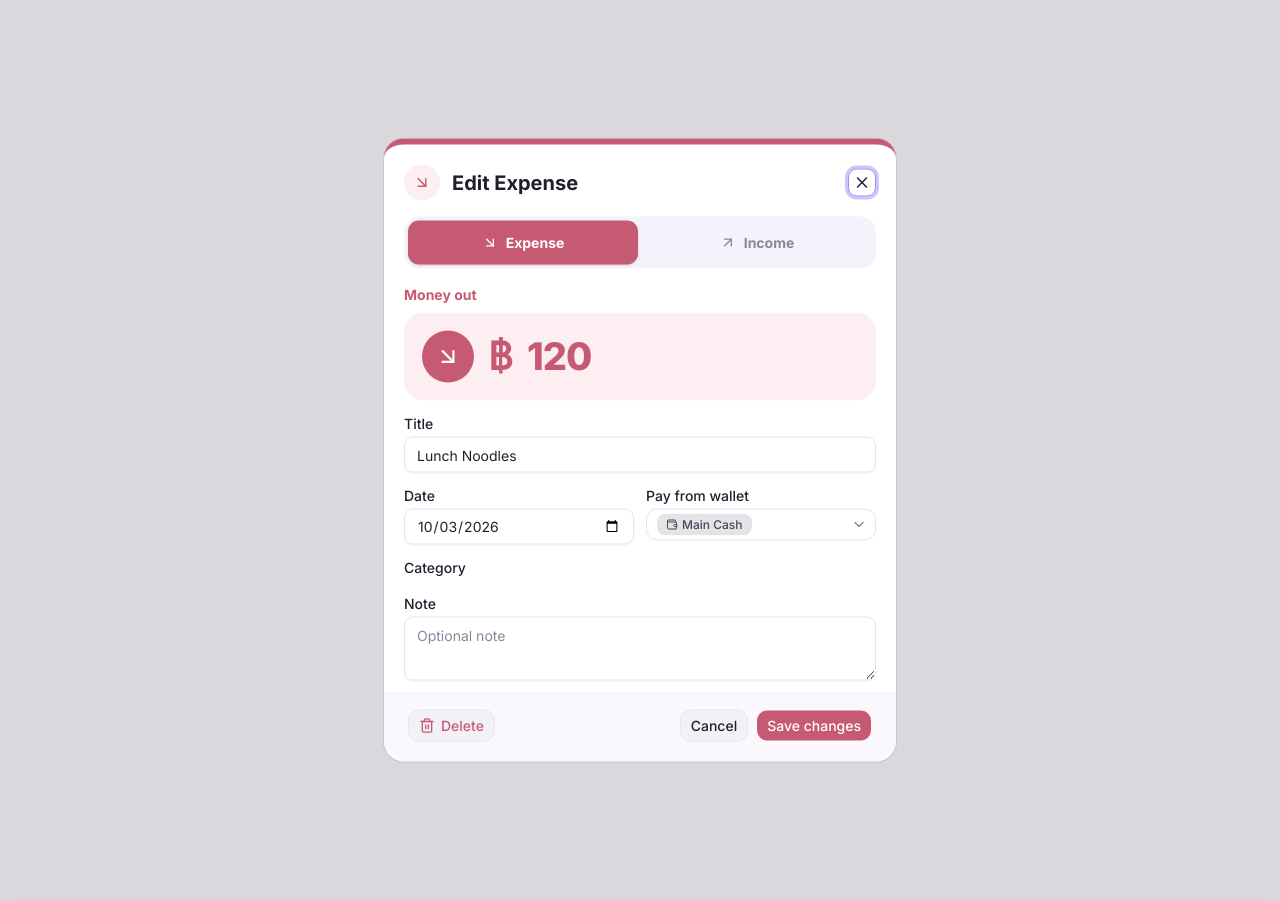
Test case: AddTransactionModal — wallet when editing › offers only personal wallets when editing a personal row
The image size is (1280, 900).
Click the dropdown named "Pay from wallet" at x=761, y=524, box [646,508,876,540]
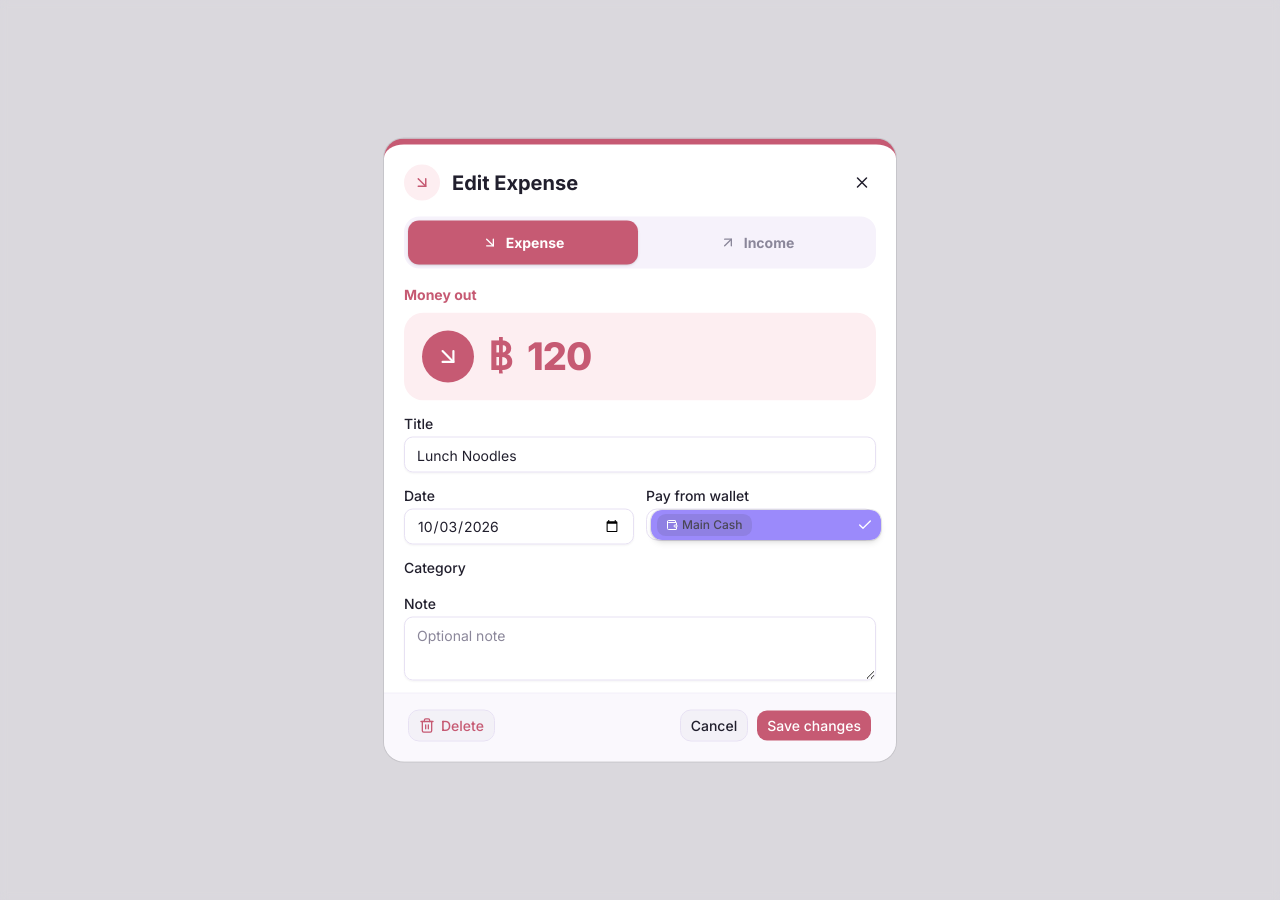
Result: the option "Main Cash" is shown at [651,510,881,540]
